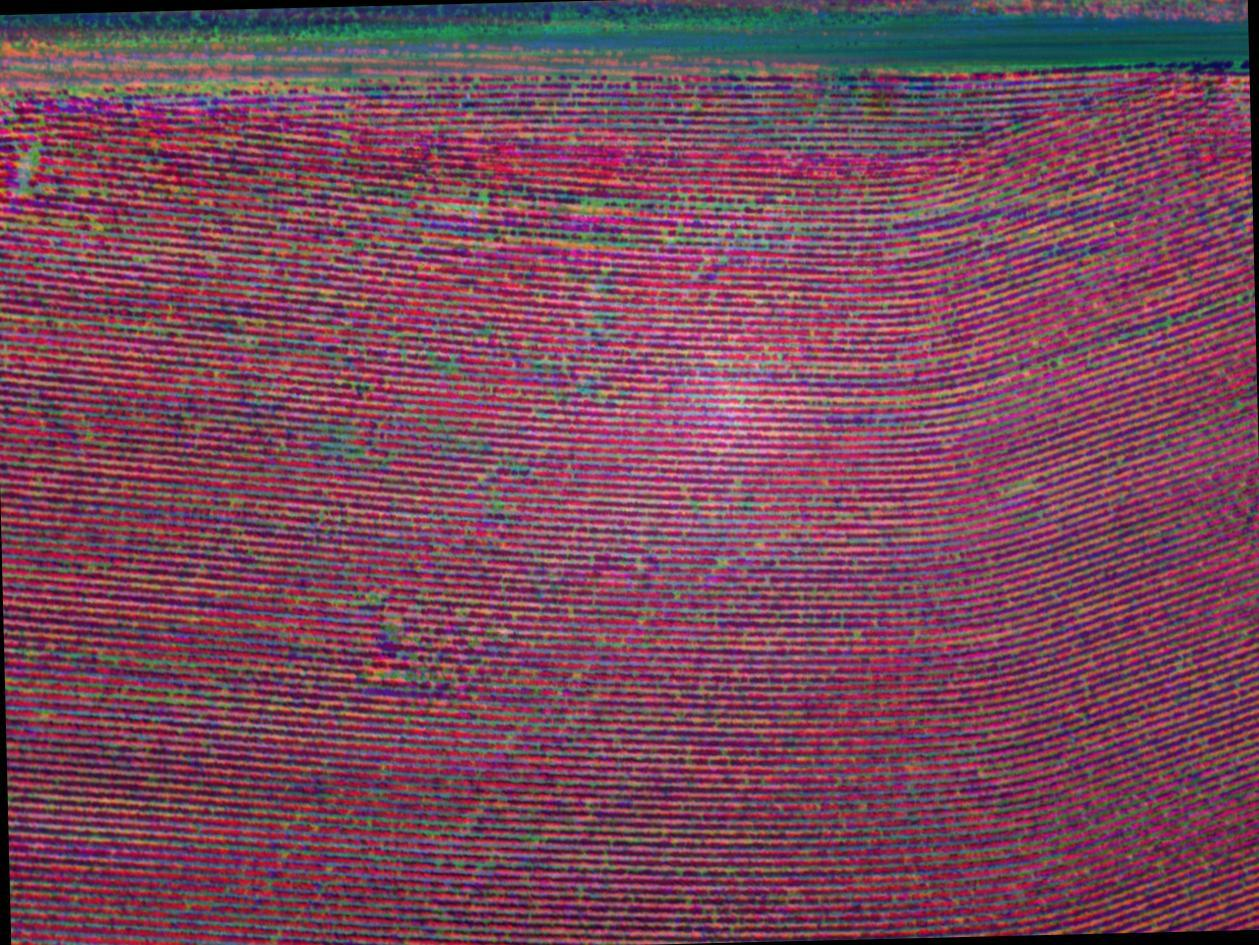dc: (571, 169, 776, 277), (368, 593, 509, 701), (318, 405, 445, 509), (424, 154, 525, 242), (0, 124, 70, 204)
